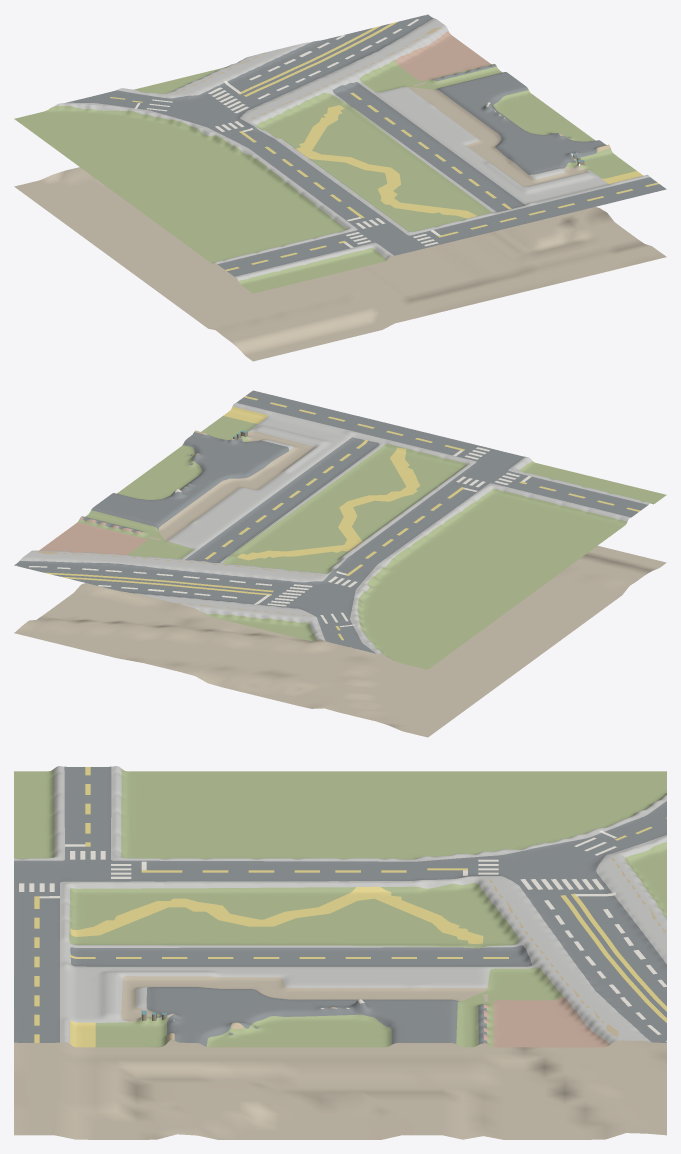
3 views of the same model, one above another, from view 1: azimuth 30°, elevation 25°; view 2: azimuth 150°, elevation 25°; view 3: azimuth 270°, elevation 25° (orthographic). The views are drawn at different scales.
Visible parts, largest first — view 1: s_-10_2__grass, s_-10_2__soil, s_-10_2__asphalt, s_-10_2__stone_paving, s_-10_2__yellow_marking, s_-10_2__brick_paving, s_-10_2__white_marking; view 2: s_-10_2__grass, s_-10_2__soil, s_-10_2__asphalt, s_-10_2__stone_paving, s_-10_2__yellow_marking, s_-10_2__brick_paving, s_-10_2__white_marking; view 3: s_-10_2__grass, s_-10_2__soil, s_-10_2__asphalt, s_-10_2__stone_paving, s_-10_2__yellow_marking, s_-10_2__brick_paving, s_-10_2__white_marking, s_-10_2__timber_deck.
Part boxes in pixels (bbox=[...]): s_-10_2__grass: bbox=[14, 60, 636, 293]; s_-10_2__soil: bbox=[14, 82, 666, 361]; s_-10_2__asphalt: bbox=[67, 14, 666, 276]; s_-10_2__stone_paving: bbox=[54, 18, 649, 280]; s_-10_2__yellow_marking: bbox=[90, 22, 658, 270]; s_-10_2__brick_paving: bbox=[395, 31, 571, 153]; s_-10_2__white_marking: bbox=[134, 14, 440, 247]; s_-10_2__grass: bbox=[78, 416, 666, 669]; s_-10_2__soil: bbox=[14, 431, 666, 737]; s_-10_2__asphalt: bbox=[14, 390, 647, 653]; s_-10_2__stone_paving: bbox=[20, 402, 650, 655]; s_-10_2__yellow_marking: bbox=[44, 396, 640, 647]; s_-10_2__brick_paving: bbox=[39, 439, 232, 554]; s_-10_2__white_marking: bbox=[16, 447, 531, 627]; s_-10_2__grass: bbox=[14, 769, 666, 1047]; s_-10_2__soil: bbox=[14, 896, 666, 1139]; s_-10_2__asphalt: bbox=[14, 766, 666, 1046]; s_-10_2__stone_paving: bbox=[14, 766, 666, 1044]; s_-10_2__yellow_marking: bbox=[34, 767, 666, 1047]; s_-10_2__brick_paving: bbox=[172, 997, 610, 1047]; s_-10_2__white_marking: bbox=[19, 830, 666, 1041]; s_-10_2__timber_deck: bbox=[167, 857, 666, 1041].
Size of the model in its own units: 128 by 23 by 128.
